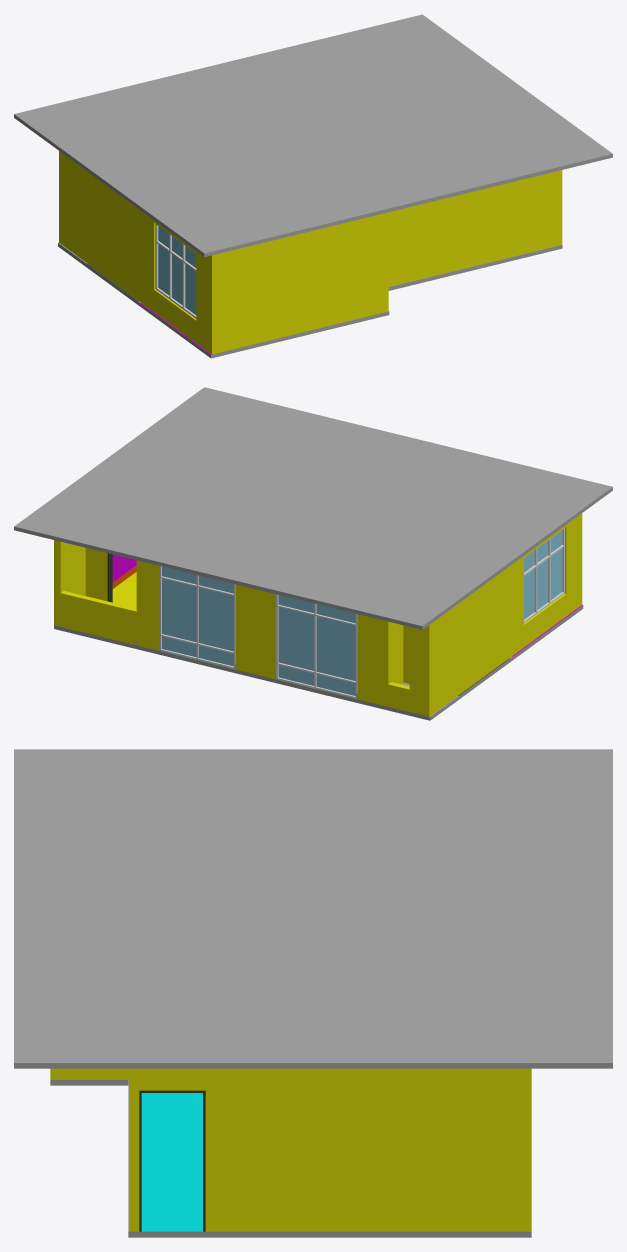
File: Wing_A_Flat_No_01_Type03_MatID.fbx
3 views of the same model, one above another, from view 1: azimuth 30°, elevation 25°; view 2: azimuth 150°, elevation 25°; view 3: azimuth 270°, elevation 25° (orthographic). The views are drawn at different scales.
Parts seen in each view (by area): view 1: Roof, walls, Floor, Flat_No_03_Type03:Glass1, Flat_No_03_Type03:Window_Frame; view 2: Roof, walls, Door_Glass1, balacony_door:Door_Glass1, Floor, Flat_No_03_Type03:Glass1, Door_frame_03, balacony_door:Flat_No_03_Type03:Door_frame_03, Flat_No_03_Type03:Window_Frame; view 3: Roof, walls, Floor, pCube12.
Part boxes in pixels (box(x1,y1,x2,y2)): Roof: box(14, 14, 612, 257); walls: box(59, 151, 562, 354); Floor: box(58, 242, 562, 358); Flat_No_03_Type03:Glass1: box(158, 226, 196, 314); Flat_No_03_Type03:Window_Frame: box(155, 223, 196, 318); Roof: box(14, 387, 612, 629); walls: box(54, 513, 582, 716); Door_Glass1: box(278, 595, 355, 695); balacony_door:Door_Glass1: box(162, 566, 233, 666); Floor: box(54, 572, 583, 720); Flat_No_03_Type03:Glass1: box(524, 530, 562, 619); Door_frame_03: box(275, 594, 357, 698); balacony_door:Flat_No_03_Type03:Door_frame_03: box(160, 566, 235, 669); Flat_No_03_Type03:Window_Frame: box(524, 528, 564, 622); Roof: box(14, 749, 612, 1068); walls: box(50, 1068, 531, 1231); Floor: box(50, 1079, 531, 1237); pCube12: box(139, 1090, 205, 1231).
Size of the model in its own units: 1146 by 316 by 925.
